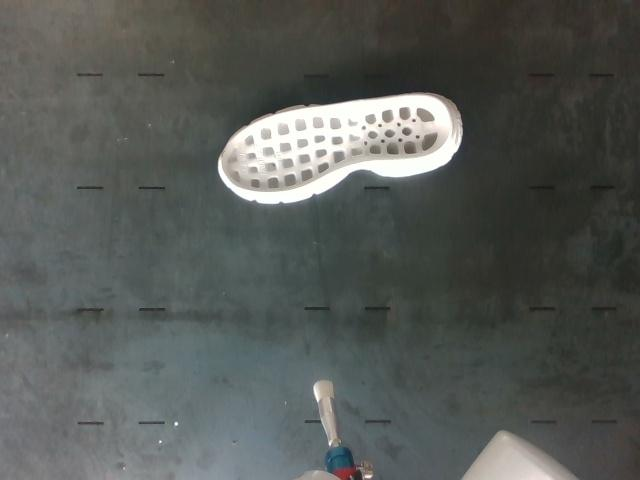shoes: (220, 94, 452, 192)
